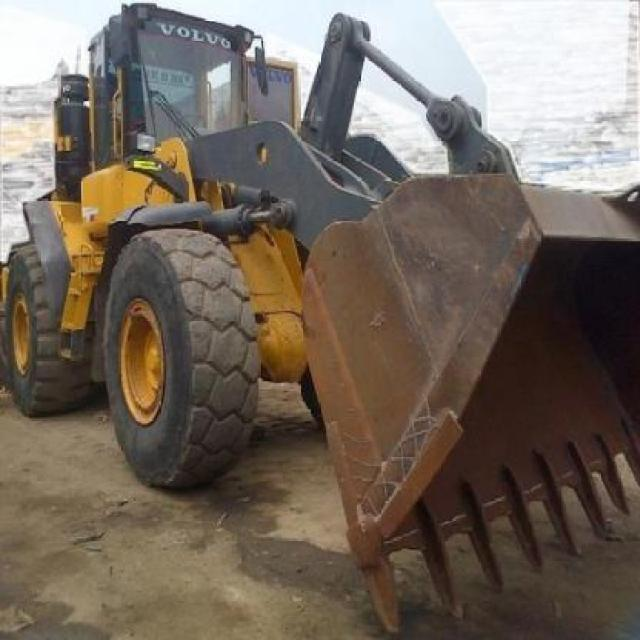buldozerpayloadergrader: (6, 3, 638, 640)
